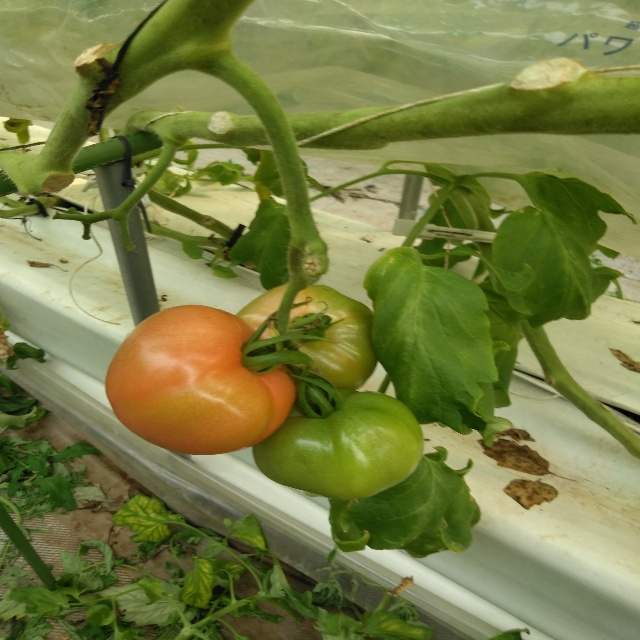b_green: (252, 389, 425, 500), (235, 283, 377, 391)
b_half_ripened: (105, 304, 296, 455)
